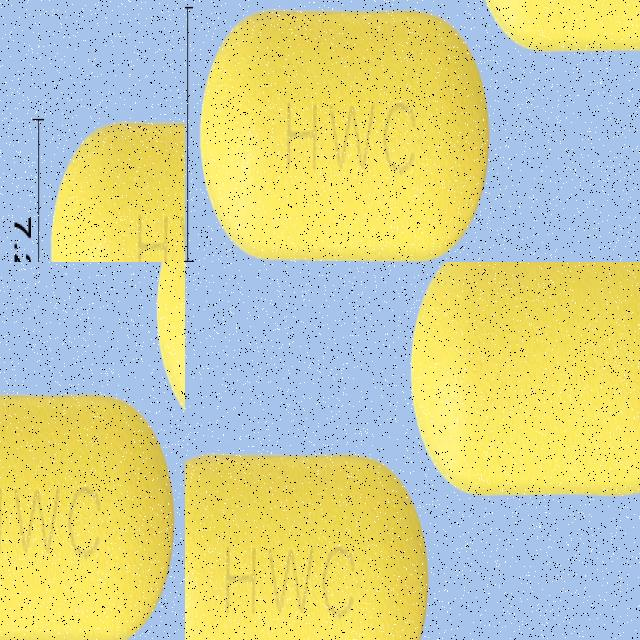Bearcin - 500mg: (48, 0, 185, 262)
Clacid - 250mg: (408, 262, 640, 501), (185, 444, 435, 640)
Clarione -500mg: (0, 467, 185, 640)
Clithro - 500mg: (198, 0, 506, 262)
